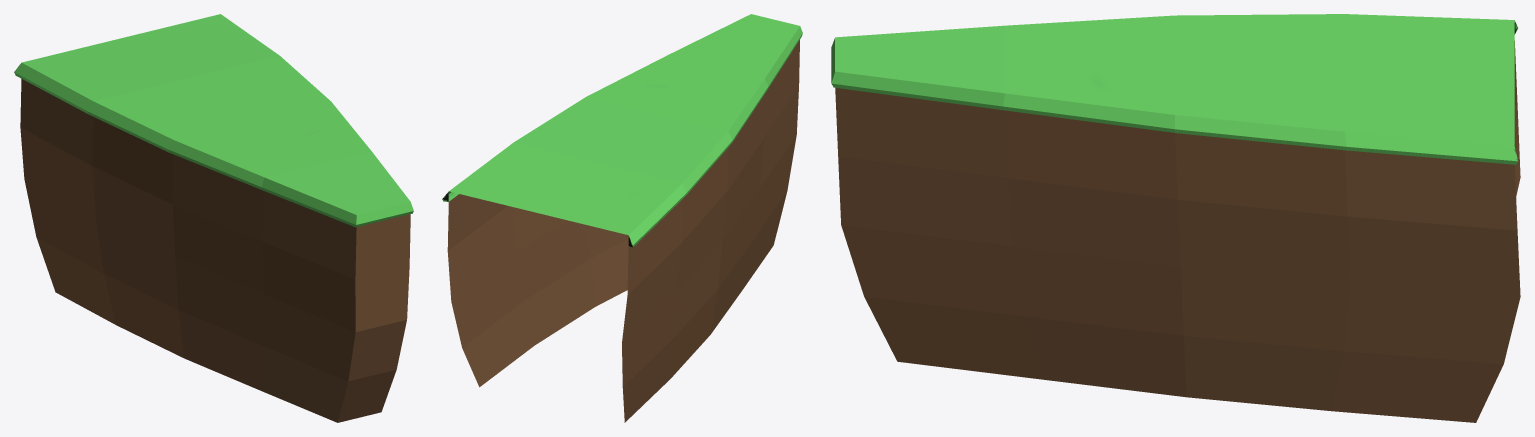
File: model-scenario-mountain-mainMenu.fbx
The picture shows the model from 3 angles, left to right: view 1: azimuth 30°, elevation 25°; view 2: azimuth 150°, elevation 25°; view 3: azimuth 270°, elevation 25°; orthographic projection. The views are drawn at different scales.
Visible parts, largest first — view 1: mountain_mesh; view 2: mountain_mesh; view 3: mountain_mesh.
Boxes of the visible parts, bbox=[...] form: mountain_mesh: bbox=[14, 14, 413, 422]; mountain_mesh: bbox=[442, 14, 802, 422]; mountain_mesh: bbox=[831, 14, 1520, 422].
Bounding box in the file's own units: 3.9 × 8.52 × 4.33.
Materials: 1 (1 with a texture image).
